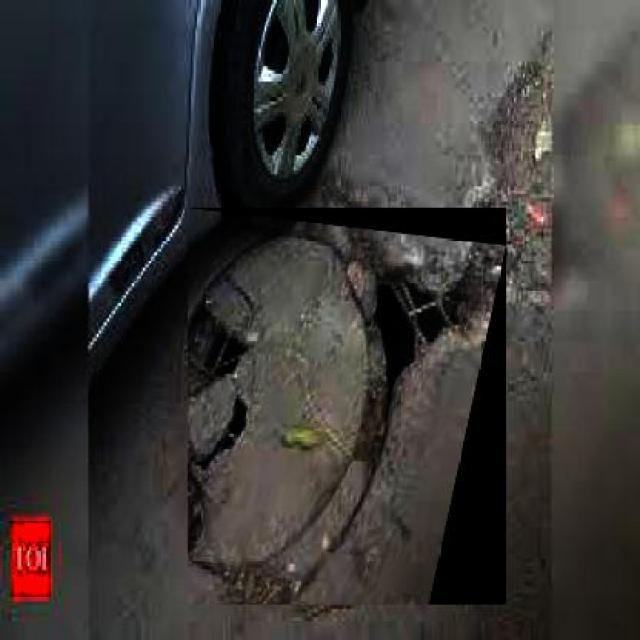Manhole: (188, 208, 507, 604)
Pothole: (478, 41, 580, 205)
